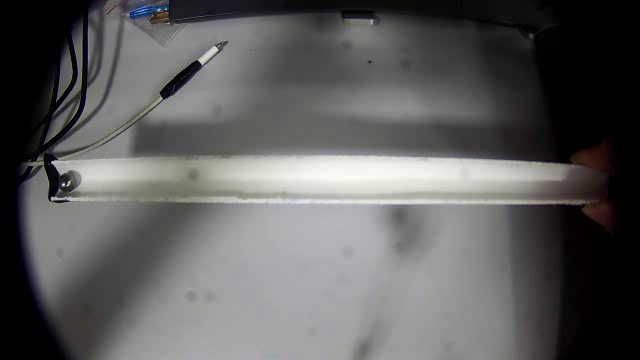gangzhu: (58, 171, 79, 191)
